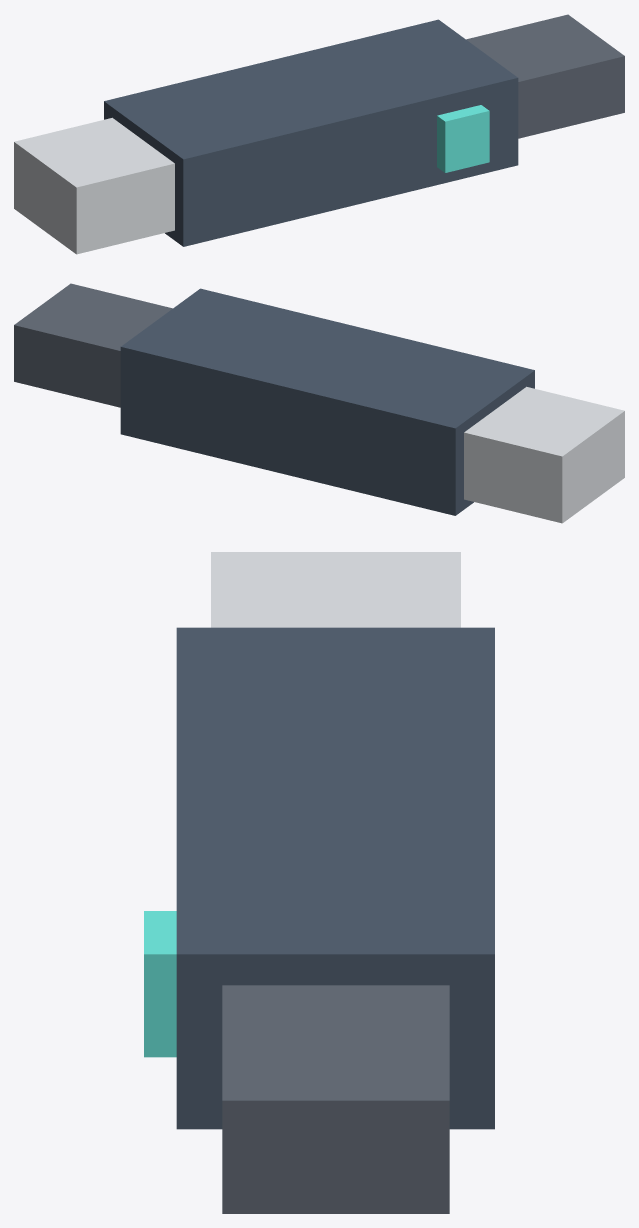
File: wifi-usb.glb
3 views of the same model, one above another, from view 1: azimuth 30°, elevation 25°; view 2: azimuth 150°, elevation 25°; view 3: azimuth 270°, elevation 25° (orthographic). The views are drawn at different scales.
Visible parts, largest first — view 1: usb_body_1, usb_type_a_2, usb_cap_4, wifi_led_3; view 2: usb_body_1, usb_type_a_2, usb_cap_4; view 3: usb_body_1, usb_cap_4, usb_type_a_2, wifi_led_3.
Part boxes in pixels (box(x1,y1,x2,y2)): usb_body_1: box(104, 19, 518, 246); usb_type_a_2: box(14, 117, 174, 254); usb_cap_4: box(466, 14, 624, 138); wifi_led_3: box(437, 105, 489, 172); usb_body_1: box(120, 288, 534, 515); usb_type_a_2: box(464, 386, 624, 523); usb_cap_4: box(14, 283, 172, 407); usb_body_1: box(176, 627, 494, 1129); usb_cap_4: box(222, 985, 449, 1213); usb_type_a_2: box(211, 552, 460, 627); wifi_led_3: box(144, 911, 176, 1057).
Size of the model in its own units: 0.56 by 0.085 by 0.1545.
